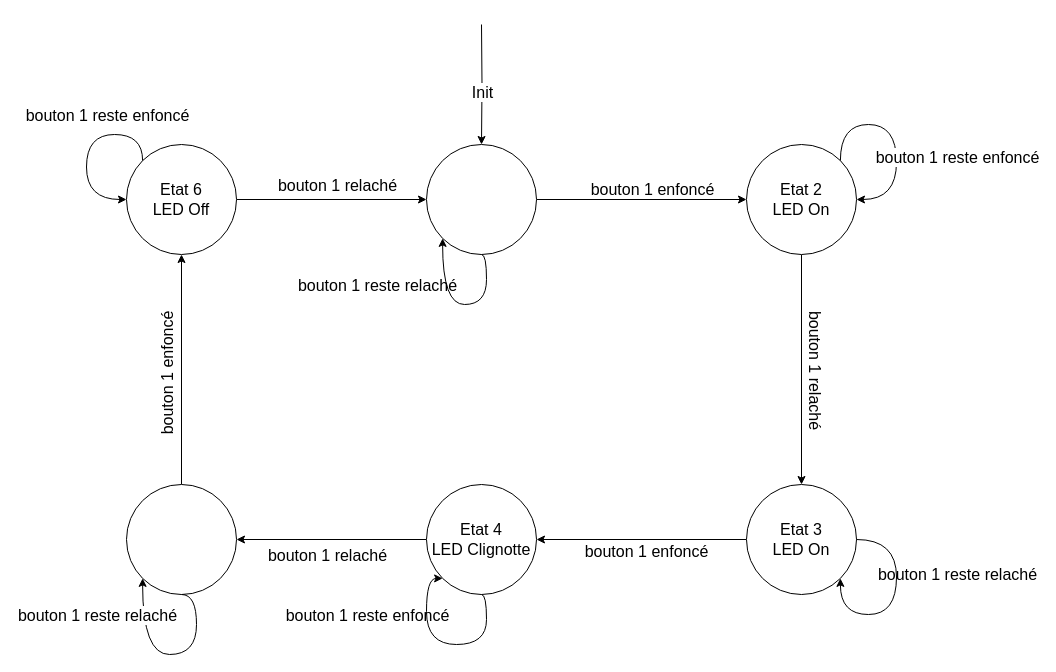
Some shapes in this 1056 by 672 pixel diagram are drawn without their labels. The centre of each missing label's shape, as x and y in pixels:
"Etat 1 LED Off" belongs at point (481, 199).
"Etat 5 LED Clignotte" belongs at point (181, 539).
